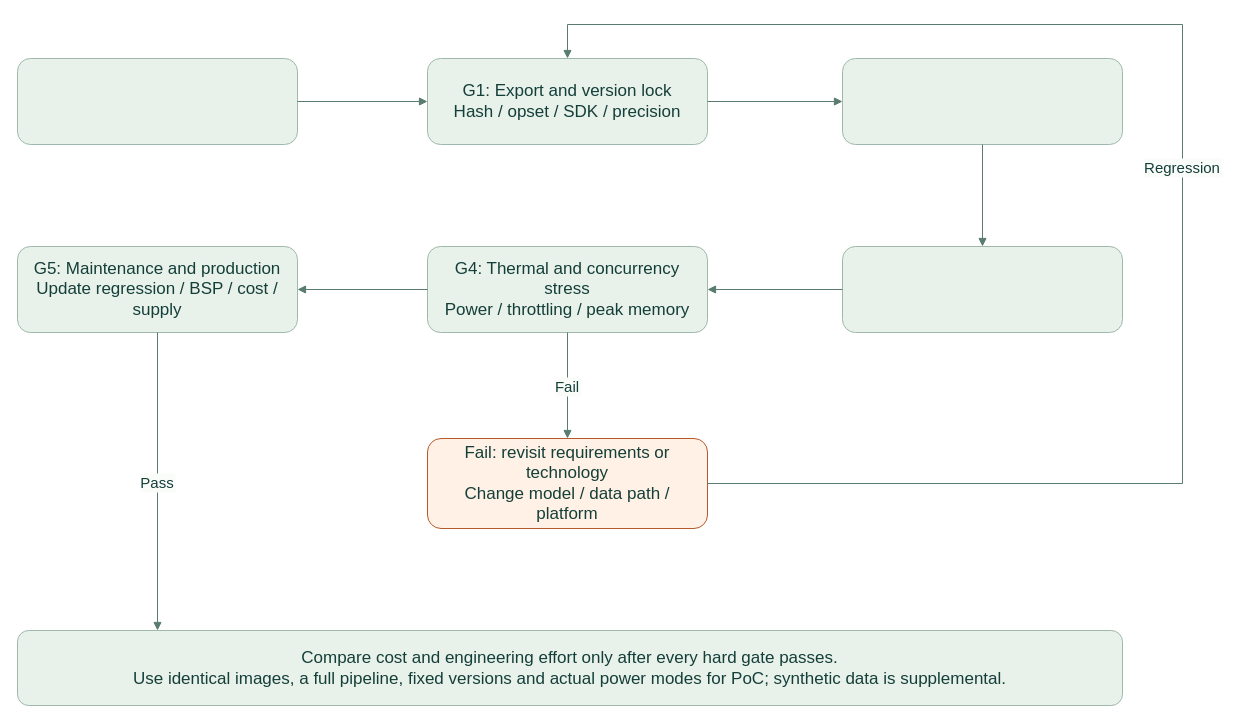
Image size: 1239x723. Some labels were removed from this diagram. Each missing label, with the centre of its shape:
G0: Requirements and dataset Error cost / resolution / deadline: (x=157, y=101)
G2: Compilation and quantization gate Operator attributes / fallback / accuracy: (x=982, y=101)
G3: End-to-end performance Multiple streams / P95,P99 / frame age: (x=982, y=289)
